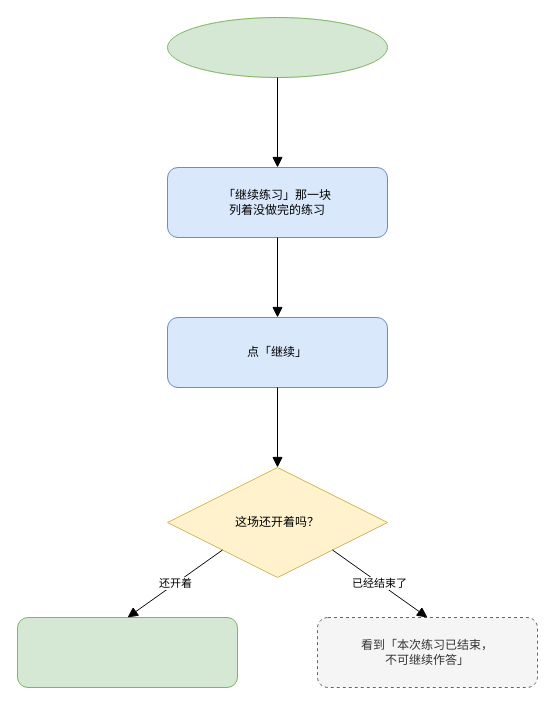
This 555x705 diagram has some shape labels left out. The box of each missing label's shape, as (x1, y1, x2, y2) in pixels:
回到「刷题」页: (166, 16, 388, 78)
回到练习页， 已判分与未作答的题都在，接着做: (16, 616, 238, 688)
